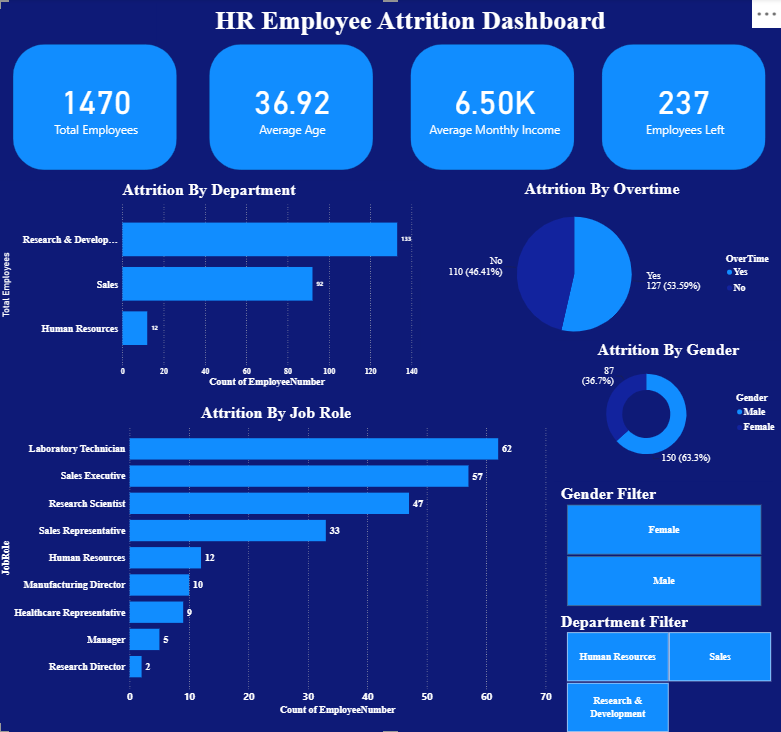

The page's visual inventory and layout, read from the dashboard file:
{"tool":"powerbi","page":{"name":"Page 1","canvas":[1600,1500],"ordinal":0},"visuals":[{"type":"shape","box":[0,10.2,1599.9,1490.3],"z":0},{"type":"clusteredBarChart","title":"Attrition By Department","fields":{"Y":["CountNonNull(WA_Fn-UseC_-HR-Employee-Attrition[1].EmployeeNumber)"],"Category":["WA_Fn-UseC_-HR-Employee-Attrition[1].Department"]},"box":[0,371.1,860.2,425],"z":1000},{"type":"pieChart","title":"Attrition By Overtime","fields":{"Category":["WA_Fn-UseC_-HR-Employee-Attrition[1].OverTime"],"Y":["CountNonNull(WA_Fn-UseC_-HR-Employee-Attrition[1].EmployeeNumber)"]},"box":[860,370,740,350],"z":2000},{"type":"clusteredBarChart","title":"Attrition By Job Role","fields":{"Category":["WA_Fn-UseC_-HR-Employee-Attrition[1].JobRole"],"Y":["CountNonNull(WA_Fn-UseC_-HR-Employee-Attrition[1].EmployeeNumber)"]},"box":[0,826.5,1133.5,640.9],"z":3000},{"type":"textbox","box":[363.3,10,993.3,83.3],"z":4000},{"type":"slicer","fields":{"Values":["WA_Fn-UseC_-HR-Employee-Attrition[1].Department"]},"box":[1133.5,1244.8,465.5,256.4],"z":5000},{"type":"slicer","fields":{"Values":["WA_Fn-UseC_-HR-Employee-Attrition[1].Gender"]},"box":[1133.5,985,445.3,259.8],"z":6000},{"type":"donutChart","title":"Attrition By Gender","fields":{"Category":["WA_Fn-UseC_-HR-Employee-Attrition[1].Gender"],"Y":["CountNonNull(WA_Fn-UseC_-HR-Employee-Attrition[1].EmployeeNumber)"]},"box":[1133.5,698.3,465.5,263.1],"z":7000},{"type":"shape","box":[30.4,94.5,334,256.4],"z":8000},{"type":"card","title":"Total Employee","fields":{"Values":["CountNonNull(WA_Fn-UseC_-HR-Employee-Attrition[1].EmployeeNumber)"]},"box":[27,94.5,344.1,253],"z":9000},{"type":"shape","box":[431.8,94.5,334,256.4],"z":10000},{"type":"card","fields":{"Values":["Avg(WA_Fn-UseC_-HR-Employee-Attrition[1].Age)"]},"box":[408.2,94.5,384.6,253],"z":11000},{"type":"shape","box":[840,94.5,334,256.4],"z":12000},{"type":"card","fields":{"Values":["Avg(WA_Fn-UseC_-HR-Employee-Attrition[1].MonthlyIncome)"]},"box":[840,94.5,344.1,253],"z":13000},{"type":"shape","box":[1231.3,94.5,334,256.4],"z":14000},{"type":"card","fields":{"Values":["CountNonNull(WA_Fn-UseC_-HR-Employee-Attrition[1].EmployeeNumber)"]},"box":[1224.5,94.5,344.1,253],"z":15000}]}

Visuals, with their boxes in screenshot pixels (x1, y1, x2, y2), scaled from the page's 1600x1500 canvas onto the 781x732 screenshot:
shape: [x1=0, y1=5, x2=780, y2=731]
"Attrition By Department" clusteredBarChart: [x1=0, y1=181, x2=420, y2=388]
"Attrition By Overtime" pieChart: [x1=420, y1=181, x2=780, y2=351]
"Attrition By Job Role" clusteredBarChart: [x1=0, y1=403, x2=553, y2=716]
textbox: [x1=177, y1=5, x2=662, y2=46]
slicer - WA_Fn-UseC_-HR-Employee-Attrition[1].Department: [x1=553, y1=607, x2=780, y2=731]
slicer - WA_Fn-UseC_-HR-Employee-Attrition[1].Gender: [x1=553, y1=481, x2=771, y2=607]
"Attrition By Gender" donutChart: [x1=553, y1=341, x2=780, y2=469]
shape: [x1=15, y1=46, x2=178, y2=171]
"Total Employee" card: [x1=13, y1=46, x2=181, y2=170]
shape: [x1=211, y1=46, x2=374, y2=171]
card - Avg(WA_Fn-UseC_-HR-Employee-Attrition[1].Age): [x1=199, y1=46, x2=387, y2=170]
shape: [x1=410, y1=46, x2=573, y2=171]
card - Avg(WA_Fn-UseC_-HR-Employee-Attrition[1].MonthlyIncome): [x1=410, y1=46, x2=578, y2=170]
shape: [x1=601, y1=46, x2=764, y2=171]
card - CountNonNull(WA_Fn-UseC_-HR-Employee-Attrition[1].EmployeeNumber): [x1=598, y1=46, x2=766, y2=170]
